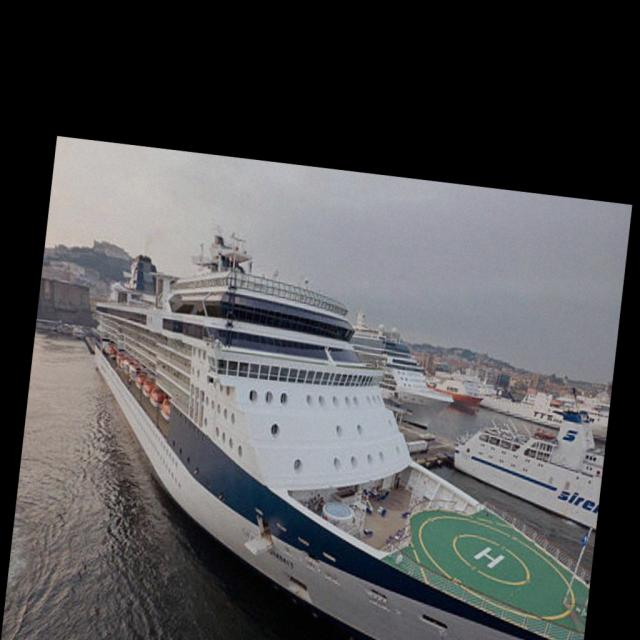helipad: (449, 530, 531, 586)
